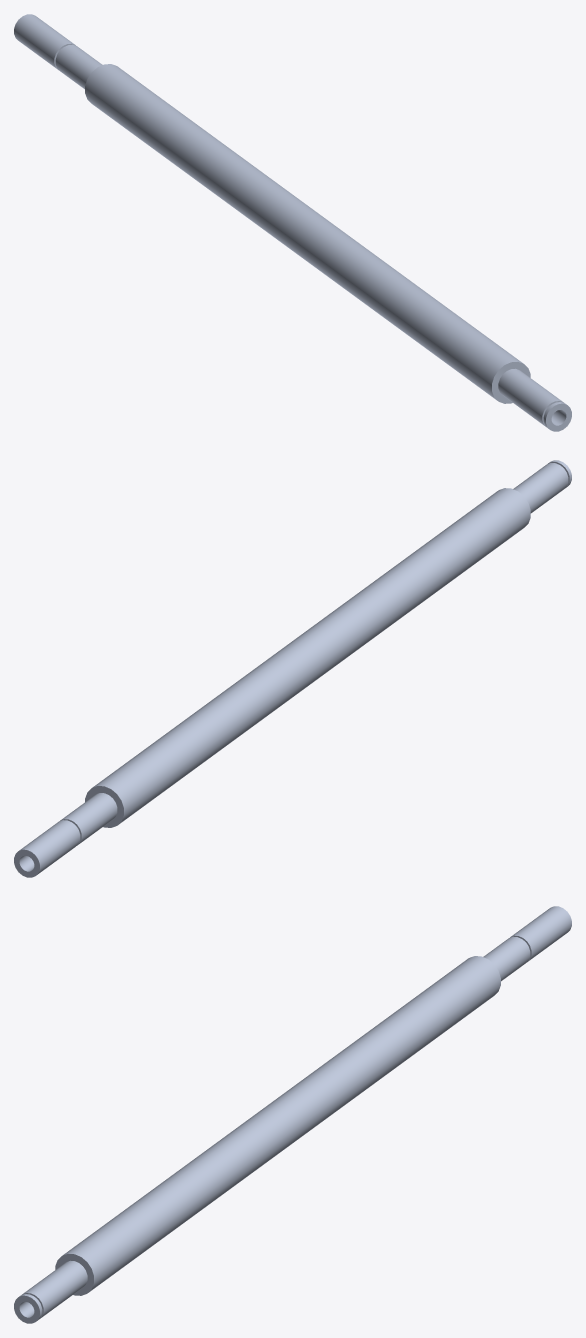
3 views of the same model, one above another, from view 1: azimuth 30°, elevation 25°; view 2: azimuth 150°, elevation 25°; view 3: azimuth 330°, elevation 25° (orthographic).
Visible parts, largest first — view 1: 切除-拉伸5; view 2: 切除-拉伸5; view 3: 切除-拉伸5.
Boxes of the visible parts, x1=… form: 切除-拉伸5: x1=14, y1=14, x2=571, y2=431; 切除-拉伸5: x1=14, y1=460, x2=571, y2=877; 切除-拉伸5: x1=14, y1=906, x2=571, y2=1323.
Size of the model in its own units: 1.18 by 1.2 by 27.92.
